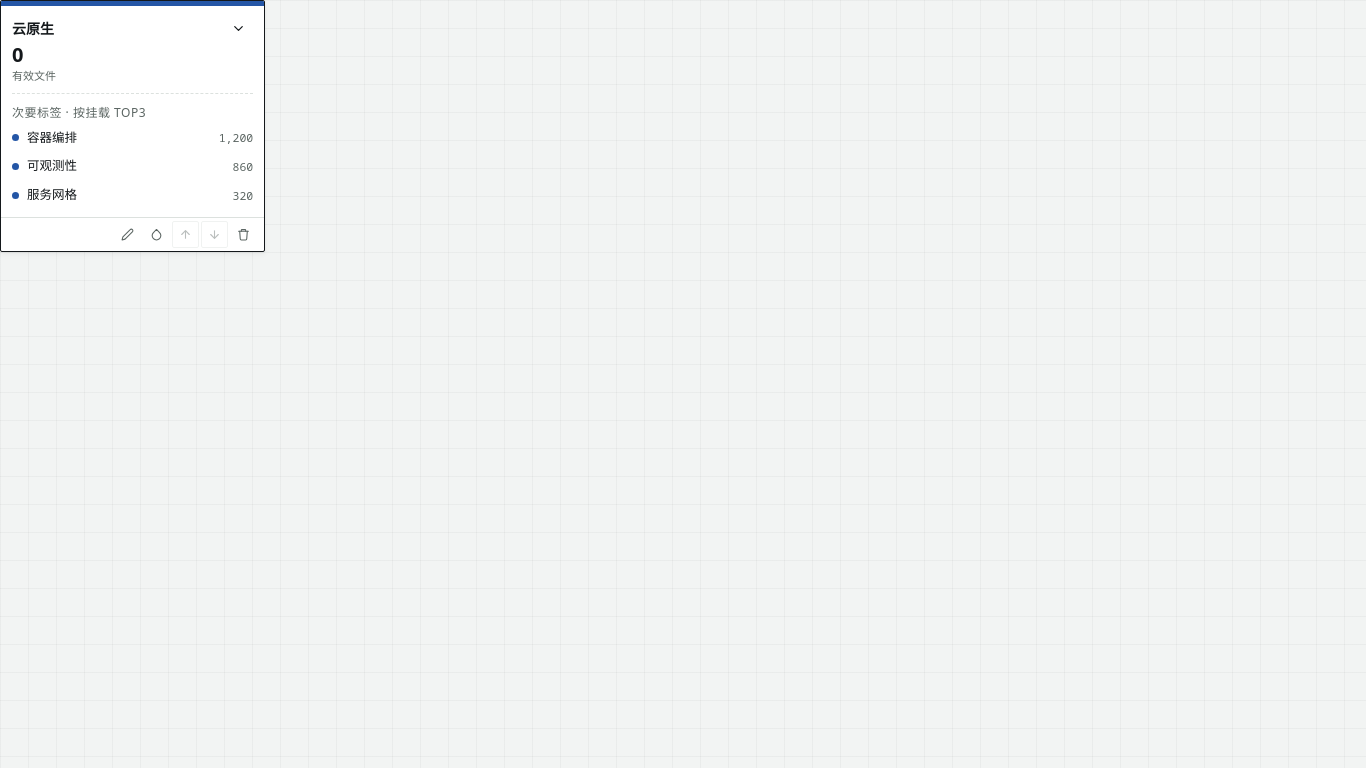
Test: 开合可逆：收起清空展开区，再展开完整恢复
Expected: the number of elements with class "domchild" is 3, [12,128,253,146]; [12,157,253,174]; [12,186,253,203]
Click the 1st button with class "icon-btn" at (239, 28), box [224,14,253,43]
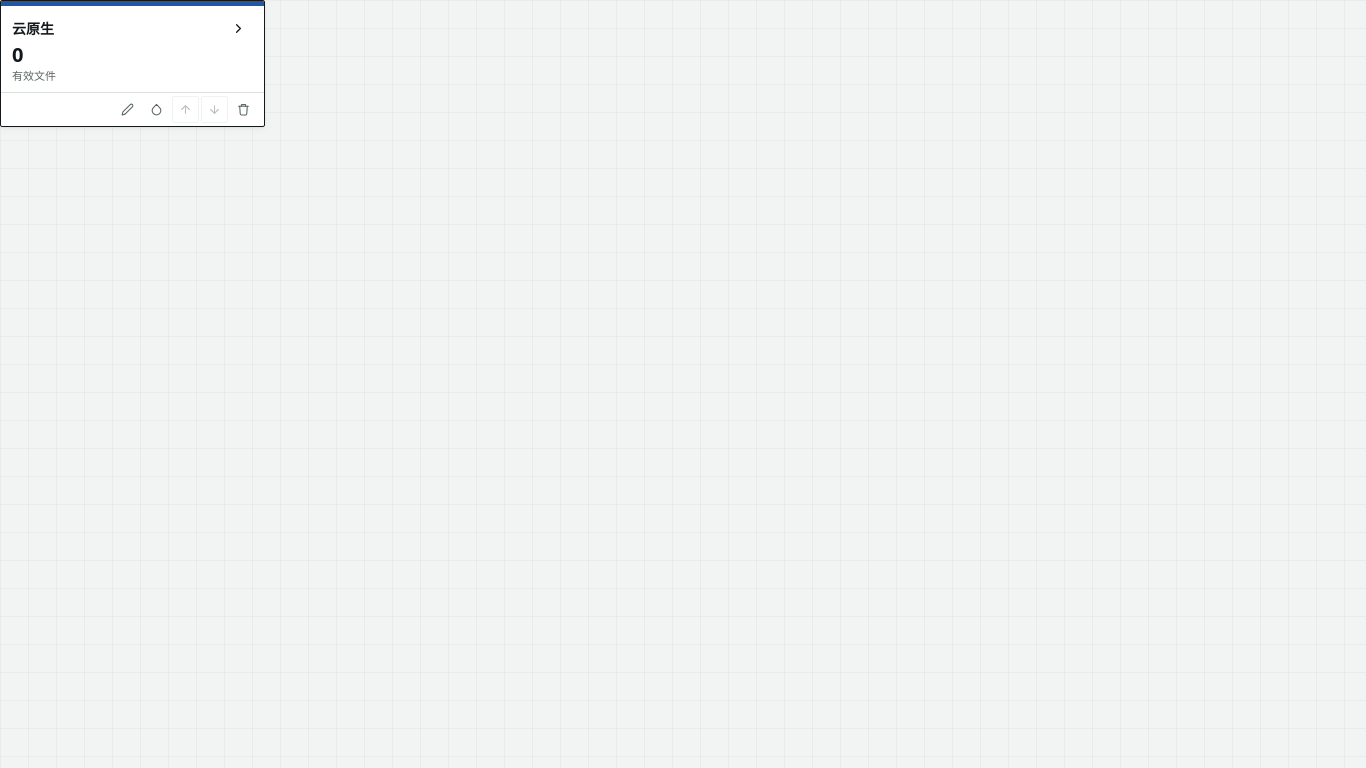
Click the 1st button with class "icon-btn" at (239, 28), box [224,14,253,43]
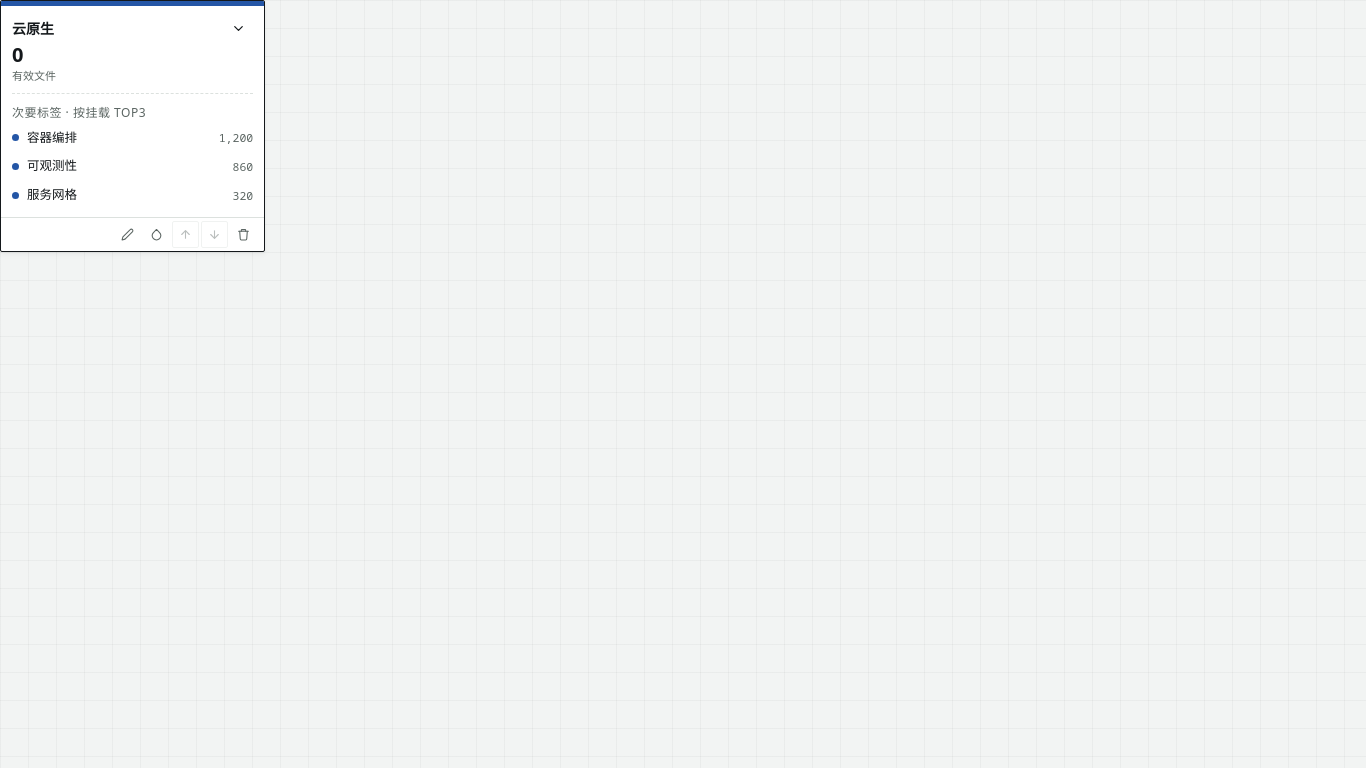
Now the number of elements with class "domchild" is 3, box [12,128,253,146]; [12,157,253,174]; [12,186,253,203]
